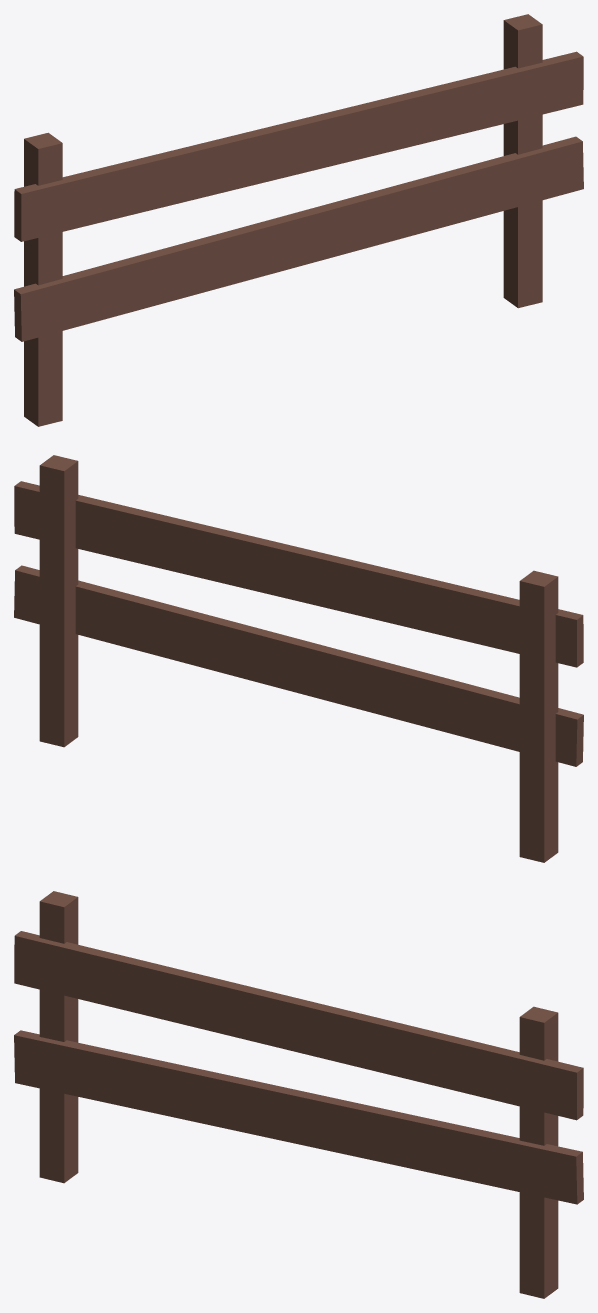
File: prop_014.fbx
3 views of the same model, one above another, from view 1: azimuth 30°, elevation 25°; view 2: azimuth 150°, elevation 25°; view 3: azimuth 330°, elevation 25° (orthographic).
Visible parts, largest first — view 1: prop.014; view 2: prop.014; view 3: prop.014.
Boxes of the visible parts, <box> form: prop.014: <box>14,14,583,426</box>; prop.014: <box>14,455,583,862</box>; prop.014: <box>14,891,583,1298</box>.
Bounding box in the file's own units: 431 × 202 × 26.45.
1 material, 1 textured.
